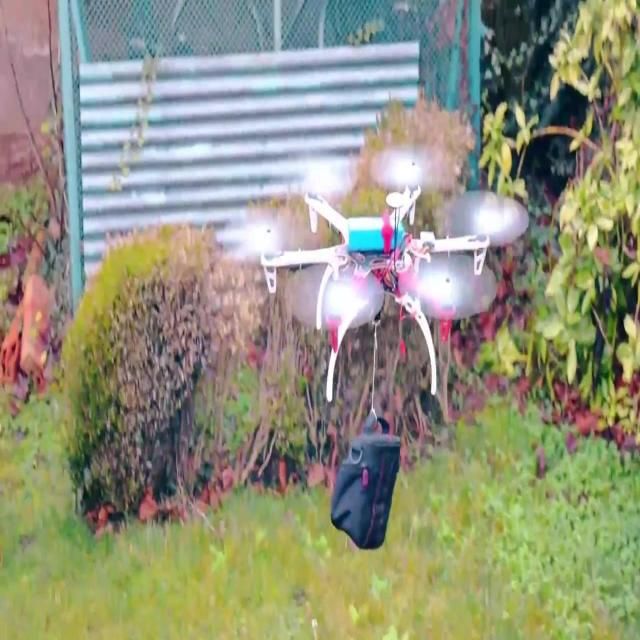drone: (257, 148, 518, 402)
